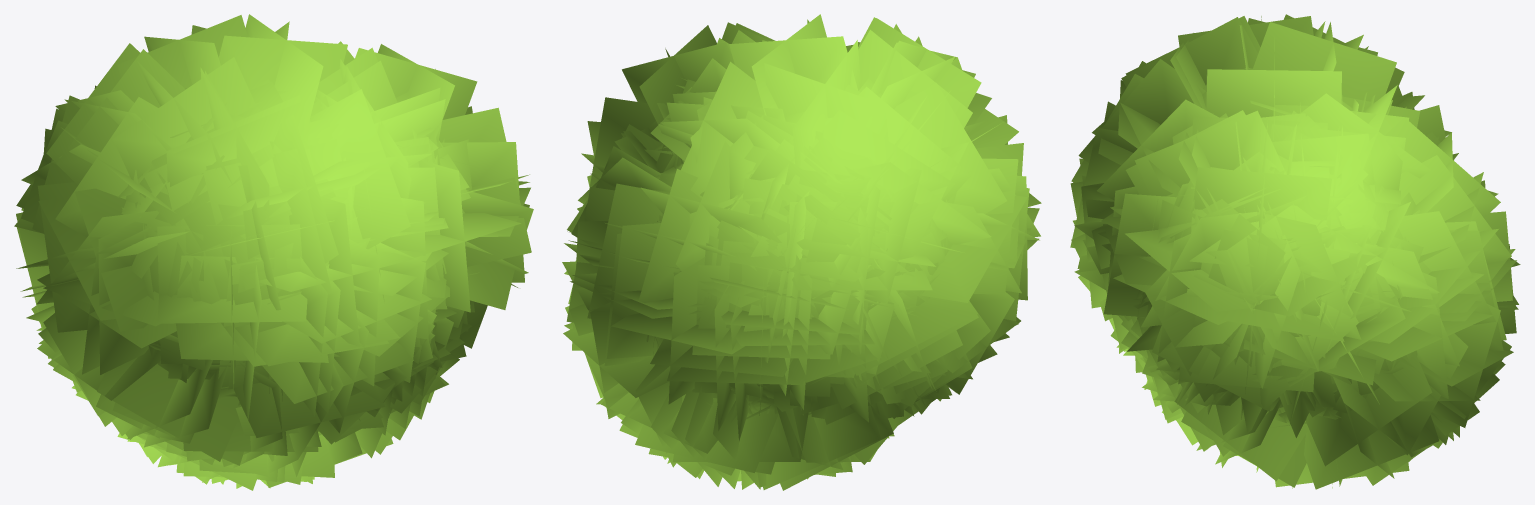
Rendered from Foliage04.fbx.
3 renders of one model, left to right at view 1: azimuth 30°, elevation 25°; view 2: azimuth 150°, elevation 25°; view 3: azimuth 270°, elevation 25°, orthographic. The views are drawn at different scales.
Parts seen in each view (by area): view 1: Foliage04; view 2: Foliage04; view 3: Foliage04.
Part boxes in pixels (bbox=[...]): Foliage04: bbox=[14, 14, 533, 490]; Foliage04: bbox=[562, 14, 1041, 490]; Foliage04: bbox=[1070, 14, 1520, 489].
Size of the model in its own units: 12.19 by 11.74 by 11.37.
